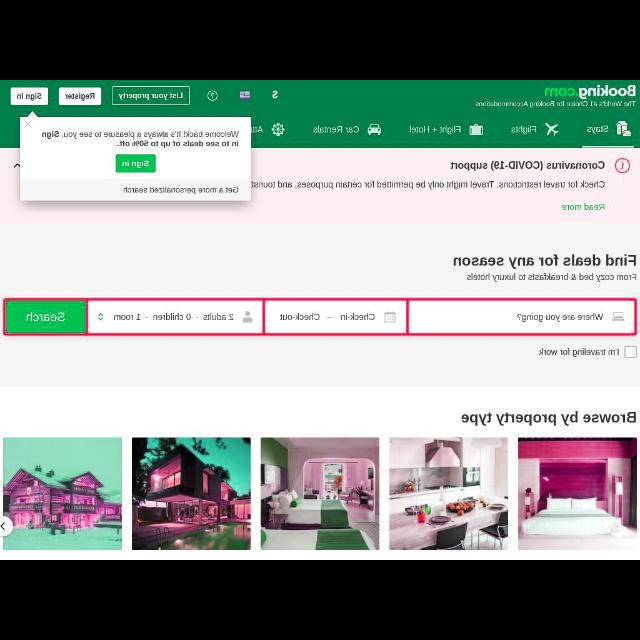checkbox: (626, 347, 636, 358)
icon: (616, 122, 632, 136), (614, 159, 630, 173), (544, 122, 558, 136), (272, 124, 284, 136), (469, 124, 483, 134), (368, 124, 380, 134), (384, 312, 396, 322), (612, 312, 624, 322), (207, 91, 217, 101), (244, 312, 252, 322), (272, 91, 278, 99), (25, 121, 31, 127), (98, 314, 104, 320), (1, 522, 5, 530), (14, 165, 20, 168), (196, 317, 198, 319), (146, 317, 148, 319)
image: (388, 438, 508, 550), (518, 438, 636, 550), (261, 438, 379, 550), (132, 438, 250, 550), (3, 438, 121, 550), (240, 92, 250, 98)
input: (408, 301, 634, 333), (88, 301, 262, 333), (266, 301, 406, 333)
text: (42, 132, 240, 148), (252, 181, 604, 189), (453, 254, 635, 268), (462, 412, 636, 426), (545, 84, 635, 100), (468, 274, 636, 282), (450, 162, 604, 170), (475, 101, 635, 107), (124, 186, 238, 194), (517, 312, 603, 322), (539, 349, 619, 357), (119, 92, 183, 100), (410, 126, 460, 134), (26, 312, 64, 322), (313, 126, 359, 134), (562, 203, 604, 210), (154, 312, 190, 320), (512, 125, 536, 135), (280, 314, 318, 320), (122, 161, 148, 169), (341, 314, 374, 320), (17, 93, 41, 101), (65, 94, 95, 100), (203, 314, 233, 320), (588, 126, 608, 134), (114, 314, 140, 320), (252, 127, 264, 133)
textbutton: (6, 301, 86, 333), (112, 86, 190, 104), (115, 155, 155, 173), (59, 88, 101, 104), (10, 88, 48, 104)
